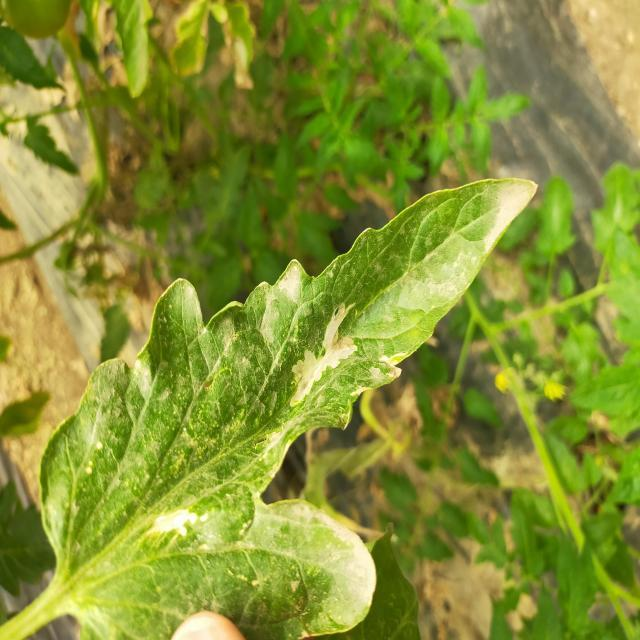Tuta absoluta: (274, 298, 377, 416), (148, 507, 198, 537)
